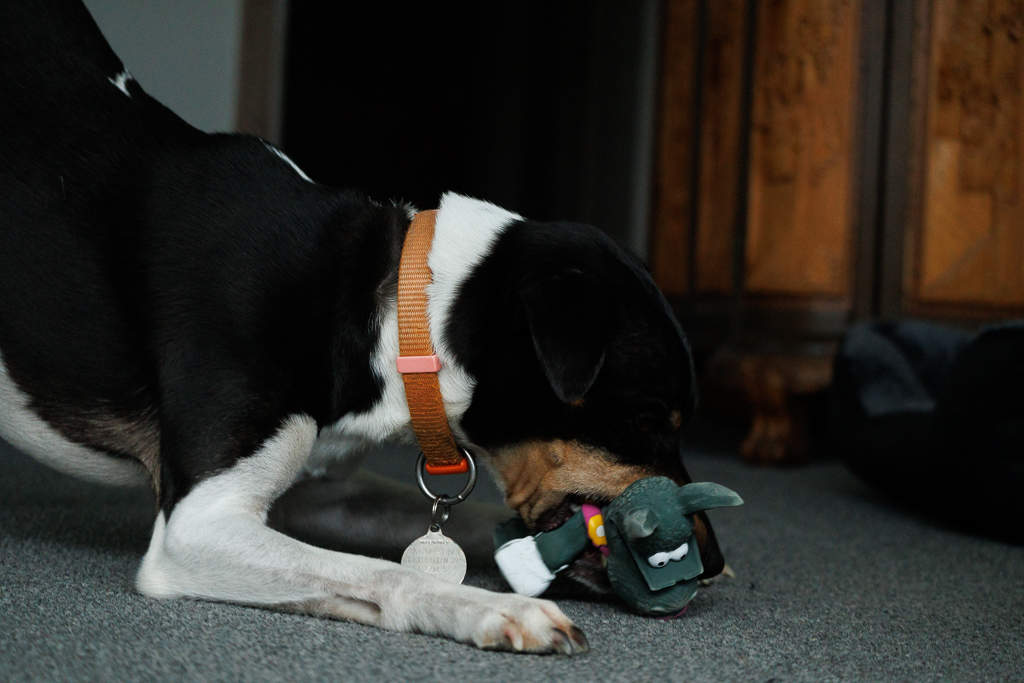Dog: (0, 0, 743, 661)
Humanoid: (480, 460, 764, 632)
